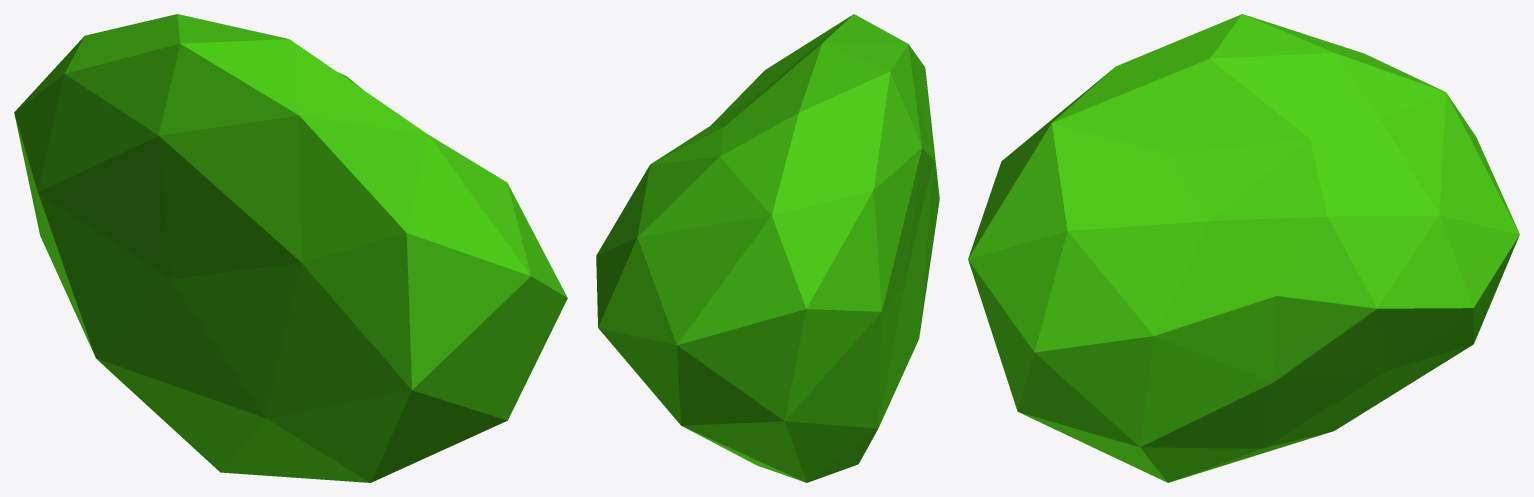
File: lp_tree5_Cube_019.obj
3 views of the same model, side by side, from view 1: azimuth 30°, elevation 25°; view 2: azimuth 150°, elevation 25°; view 3: azimuth 270°, elevation 25° (orthographic). The views are drawn at different scales.
Parts seen in each view (by area): view 1: lp_tree5_Cube_019; view 2: lp_tree5_Cube_019; view 3: lp_tree5_Cube_019.
Part boxes in pixels (x1,y1,x2,y2): lp_tree5_Cube_019: (14,14,567,482); lp_tree5_Cube_019: (596,14,939,482); lp_tree5_Cube_019: (968,14,1519,482).
Bounding box in the file's own units: 4.33 × 5.29 × 6.67.
